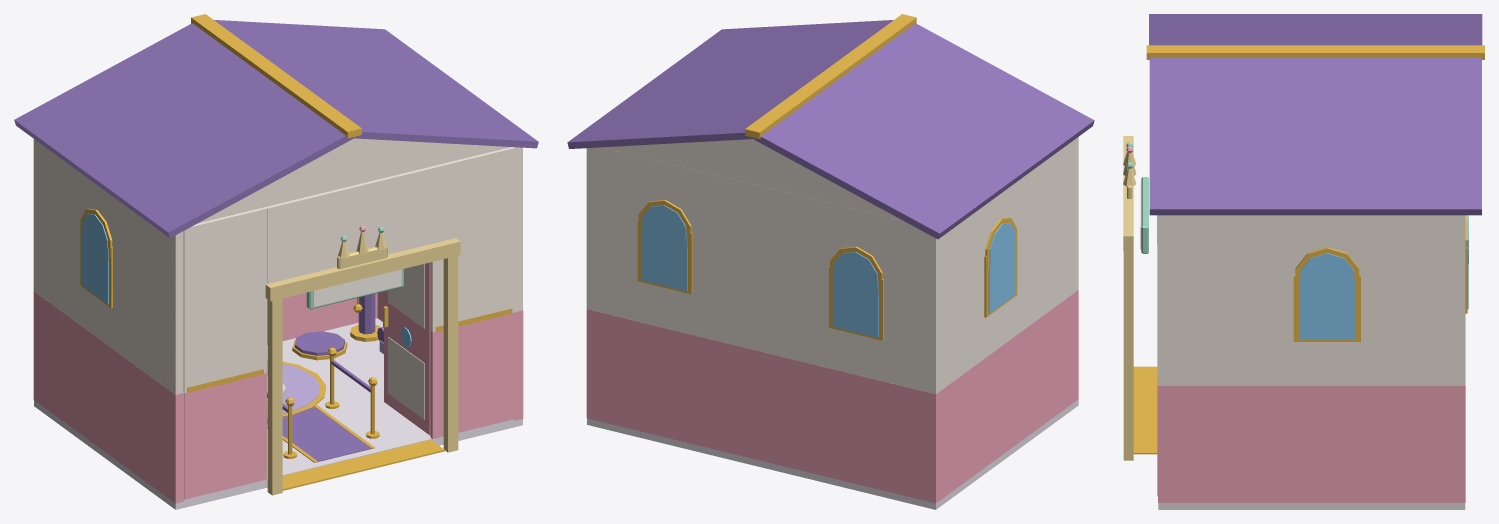
Rendered from CleanACat_Area_VipRoom.fbx.
The picture shows the model from 3 angles, left to right: view 1: azimuth 30°, elevation 25°; view 2: azimuth 150°, elevation 25°; view 3: azimuth 270°, elevation 25°; orthographic projection. The views are drawn at different scales.
Parts seen in each view (by area): view 1: CleanACat_Area_VipRoom, CleanACat_Area_VipRoom_WallArt, CleanACat_Area_VipRoom_Decor, CleanACat_Area_VipRoom_Screen; view 2: CleanACat_Area_VipRoom; view 3: CleanACat_Area_VipRoom, CleanACat_Area_VipRoom_Sign_Decor, CleanACat_Area_VipRoom_WallArt.
Part boxes in pixels (box(x1,y1,x2,y2)): CleanACat_Area_VipRoom: box(14, 14, 538, 509); CleanACat_Area_VipRoom_WallArt: box(183, 147, 515, 499); CleanACat_Area_VipRoom_Decor: box(267, 293, 383, 462); CleanACat_Area_VipRoom_Screen: box(313, 269, 401, 306); CleanACat_Area_VipRoom: box(567, 14, 1094, 509); CleanACat_Area_VipRoom: box(1123, 14, 1484, 509); CleanACat_Area_VipRoom_Sign_Decor: box(1141, 177, 1148, 253); CleanACat_Area_VipRoom_WallArt: box(1157, 215, 1158, 496).
Bounding box in the file's own units: 17.92 × 15.77 × 14.01.
Materials: 1 (1 with a texture image).
